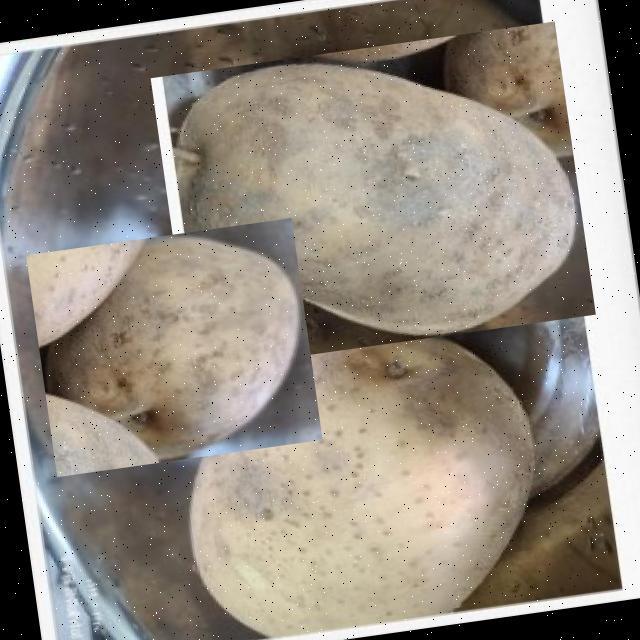Damaged potato: (150, 21, 596, 370), (158, 306, 563, 640), (26, 217, 323, 476)
